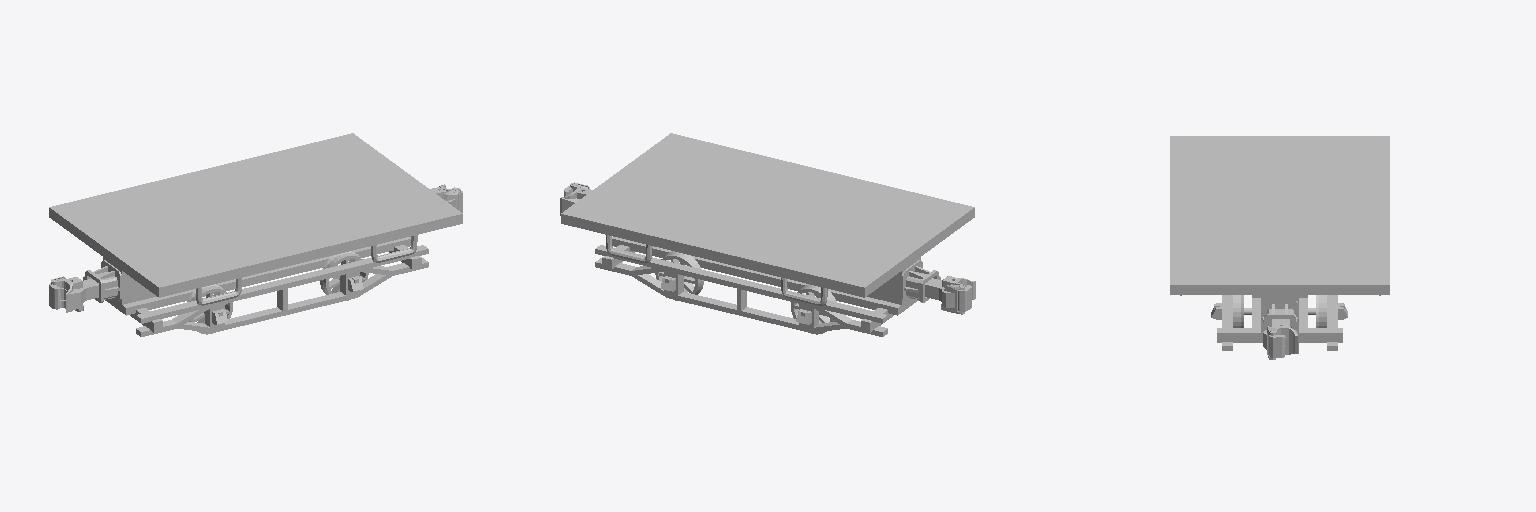
The model's file is steamshovelidler.obj.
3 renders of one model, left to right at view 1: azimuth 30°, elevation 25°; view 2: azimuth 150°, elevation 25°; view 3: azimuth 270°, elevation 25°, orthographic.
Parts seen in each view (by area): view 1: FRAME_Cube_Cube.008, SHELL.002_Cube.011_Cube.000, FRAME_Cube_Cube.000, FRAME.004_Cube.018_FRAME.004_Cube.001_FRAME.004_Cube.018_FR.001, CUBE_PIPING.002_NurbsPath.006_NurbsPath.000, FRAME_WHEEL_1_Cube.000; view 2: FRAME_Cube_Cube.008, SHELL.002_Cube.011_Cube.000, FRAME_Cube_Cube.000, FRAME.004_Cube.018_FRAME.004_Cube.001_FRAME.004_Cube.018_FR.001, CUBE_PIPING.002_NurbsPath.006_NurbsPath.000, FRAME_WHEEL_1_Cube.000; view 3: FRAME_Cube_Cube.008, SHELL.002_Cube.011_Cube.000, FRAME.004_Cube.018_FRAME.004_Cube.000, FRAME_Cube_Cube.000, FRAME_WHEEL_1_Cube.000.
Part boxes in pixels (left/top/right/bottom): FRAME_Cube_Cube.008: left=49, top=133, right=462, bottom=297; SHELL.002_Cube.011_Cube.000: left=83, top=245, right=428, bottom=336; FRAME_Cube_Cube.000: left=103, top=237, right=410, bottom=315; FRAME.004_Cube.018_FRAME.004_Cube.001_FRAME.004_Cube.018_FR.001: left=49, top=260, right=121, bottom=312; CUBE_PIPING.002_NurbsPath.006_NurbsPath.000: left=196, top=235, right=417, bottom=305; FRAME_WHEEL_1_Cube.000: left=320, top=251, right=368, bottom=300; FRAME_Cube_Cube.008: left=561, top=133, right=974, bottom=297; SHELL.002_Cube.011_Cube.000: left=595, top=245, right=940, bottom=336; FRAME_Cube_Cube.000: left=612, top=237, right=920, bottom=315; FRAME.004_Cube.018_FRAME.004_Cube.001_FRAME.004_Cube.018_FR.001: left=902, top=260, right=975, bottom=314; CUBE_PIPING.002_NurbsPath.006_NurbsPath.000: left=606, top=235, right=827, bottom=305; FRAME_WHEEL_1_Cube.000: left=655, top=251, right=703, bottom=300; FRAME_Cube_Cube.008: left=1170, top=136, right=1389, bottom=294; SHELL.002_Cube.011_Cube.000: left=1211, top=295, right=1347, bottom=350; FRAME.004_Cube.018_FRAME.004_Cube.000: left=1261, top=301, right=1298, bottom=359; FRAME_Cube_Cube.000: left=1252, top=295, right=1307, bottom=340; FRAME_WHEEL_1_Cube.000: left=1233, top=295, right=1326, bottom=327.
Size of the model in its own units: 8.48 by 1.82 by 3.98.